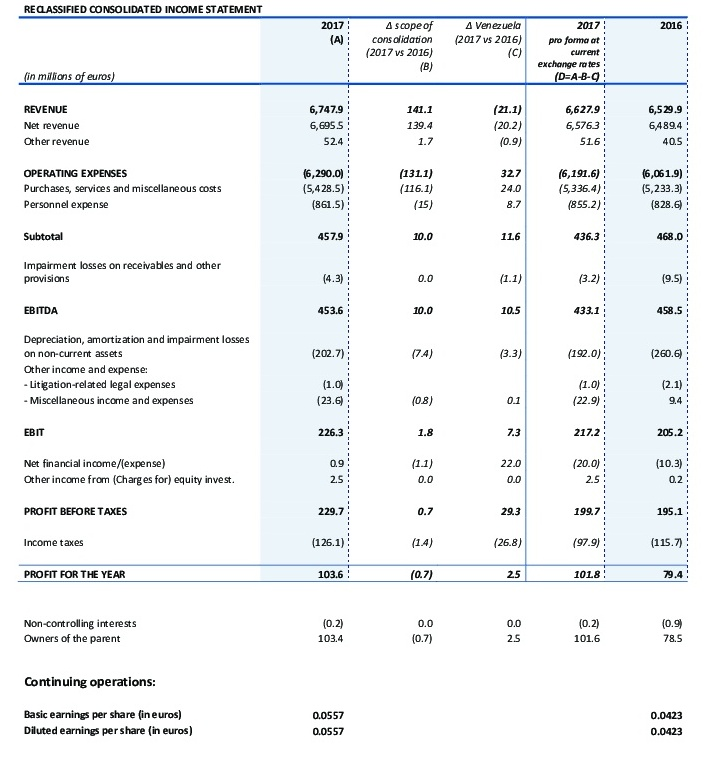table: (0, 0, 708, 757)
